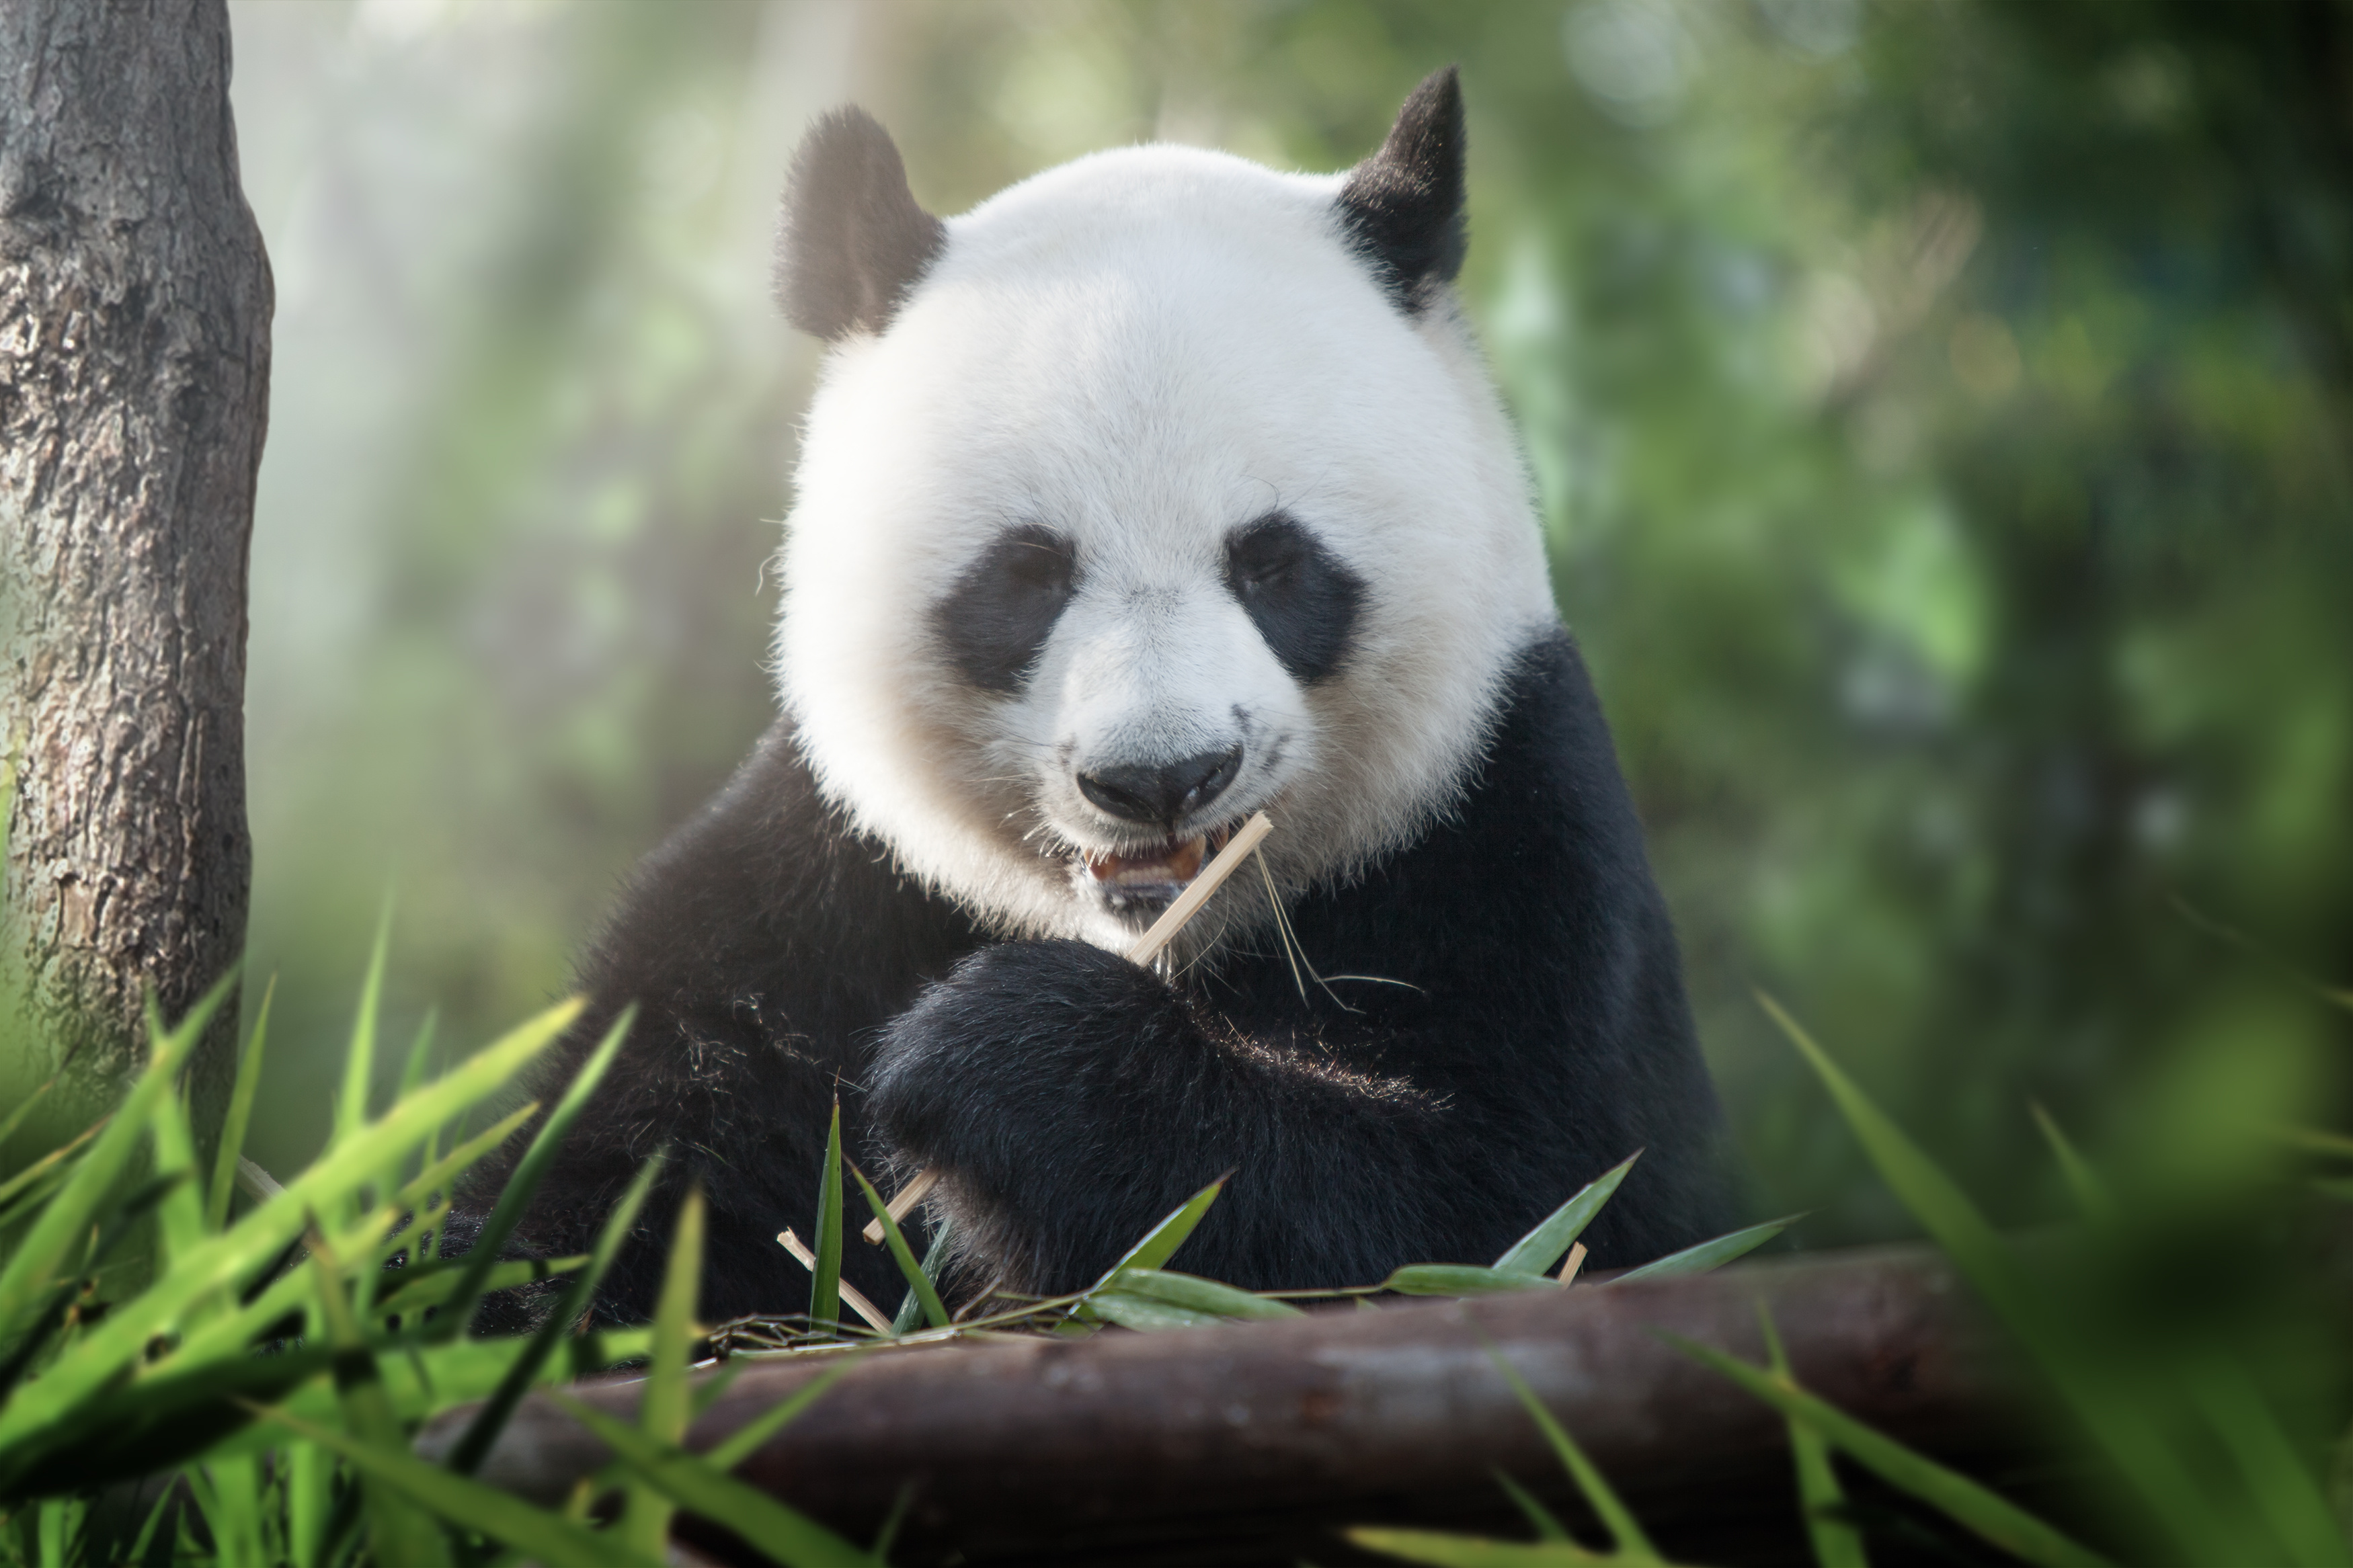panda: (586, 100, 1880, 1472)
